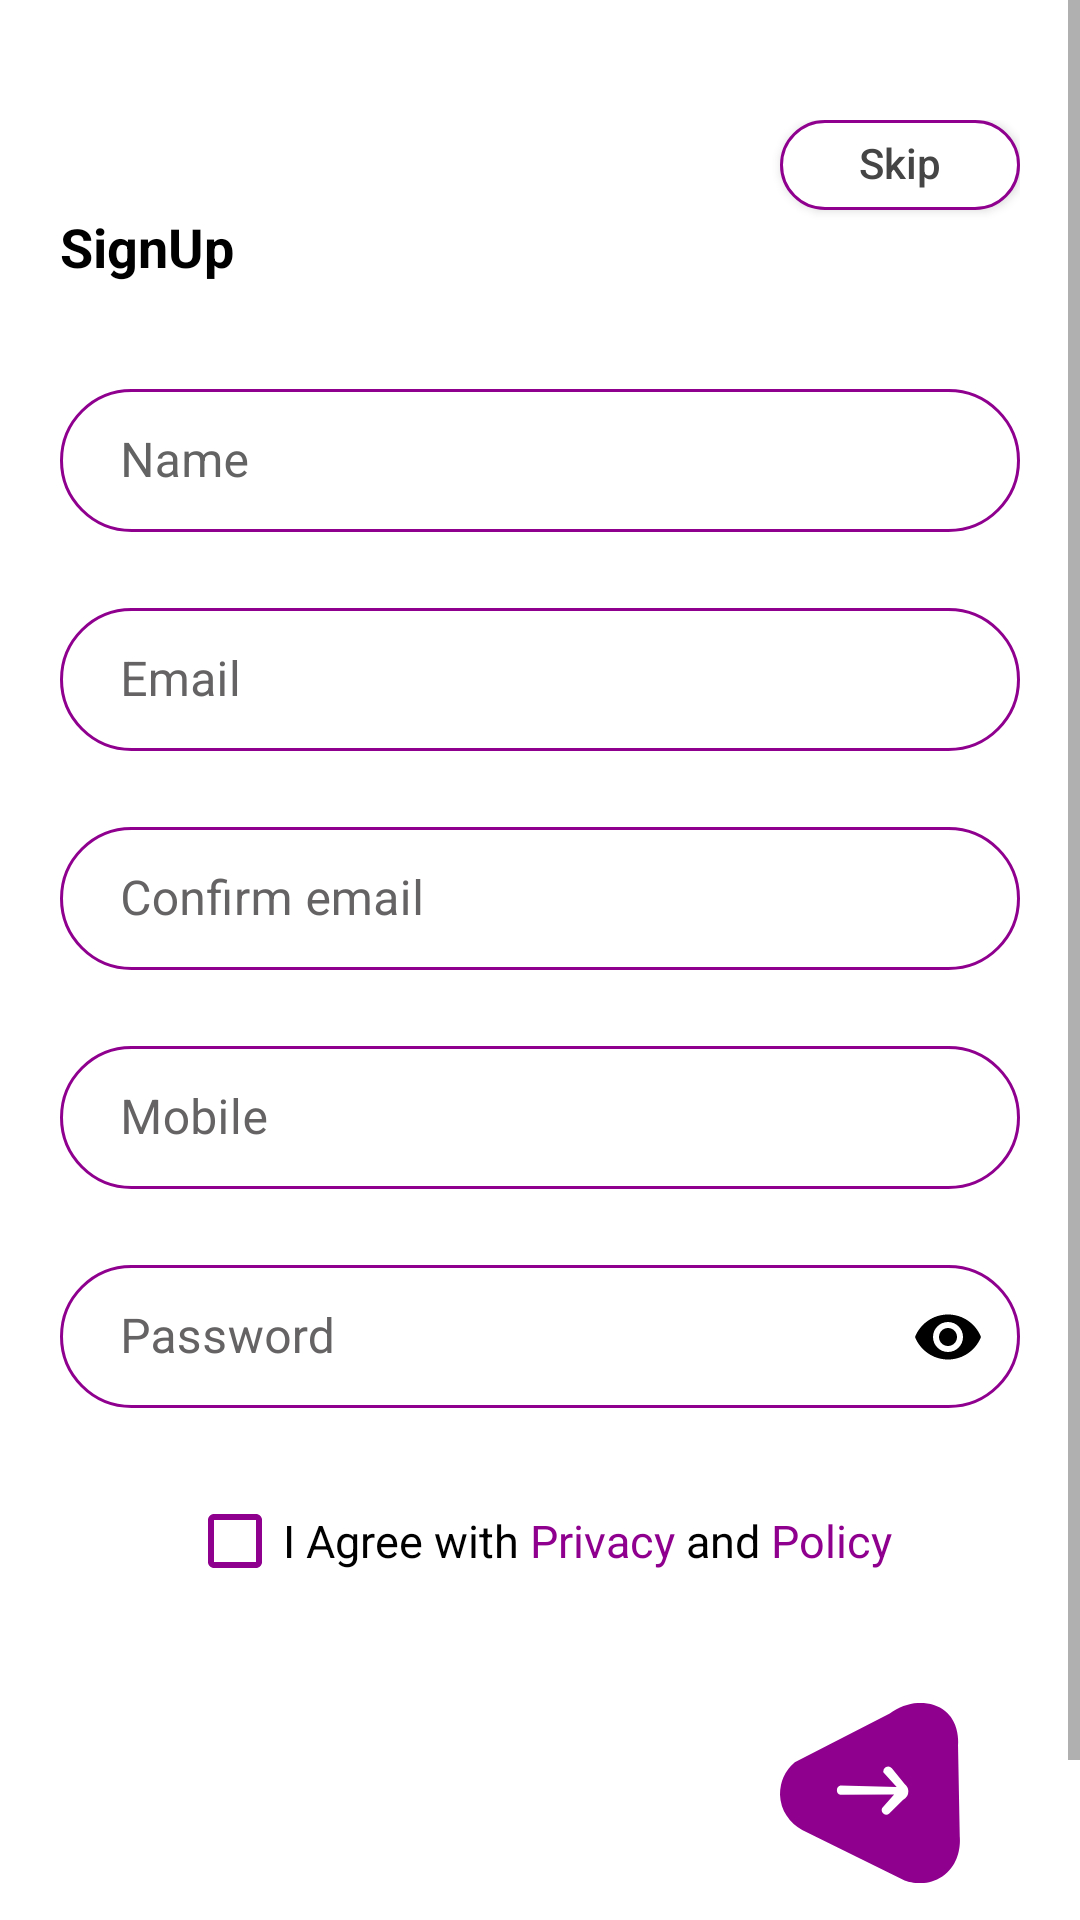

Locate icon controls on the screen. Image size 1080x1920, boxes as (x1, y1, x2, y2).
loginbutton: (780, 1703, 960, 1883)
